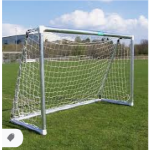goals: (8, 23, 137, 138)
